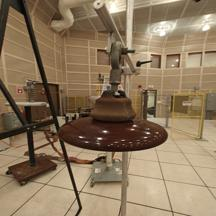insulator: (54, 86, 177, 157)
